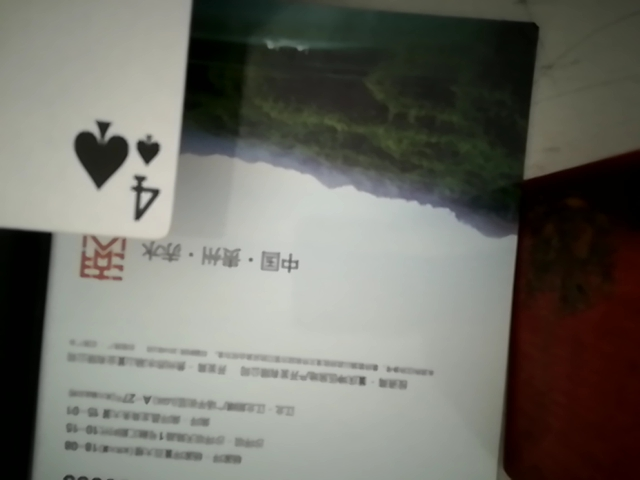ht 4: (0, 0, 219, 262)
